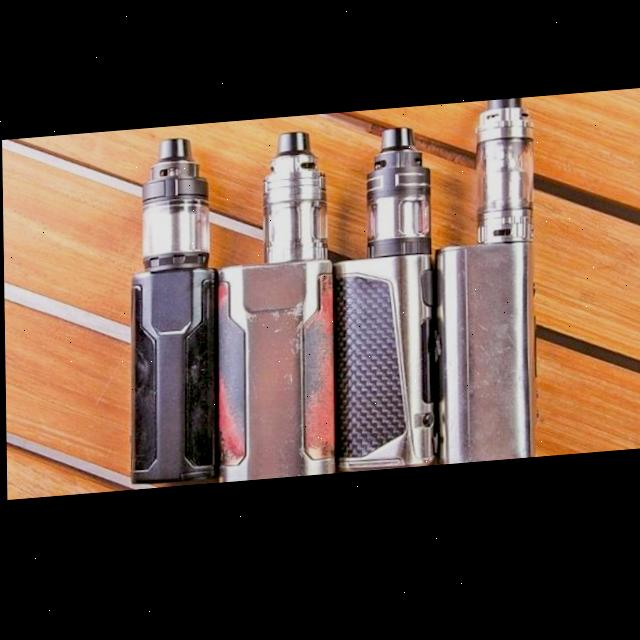vape: (212, 133, 335, 487), (331, 130, 450, 478), (439, 107, 535, 471), (127, 138, 215, 485)
